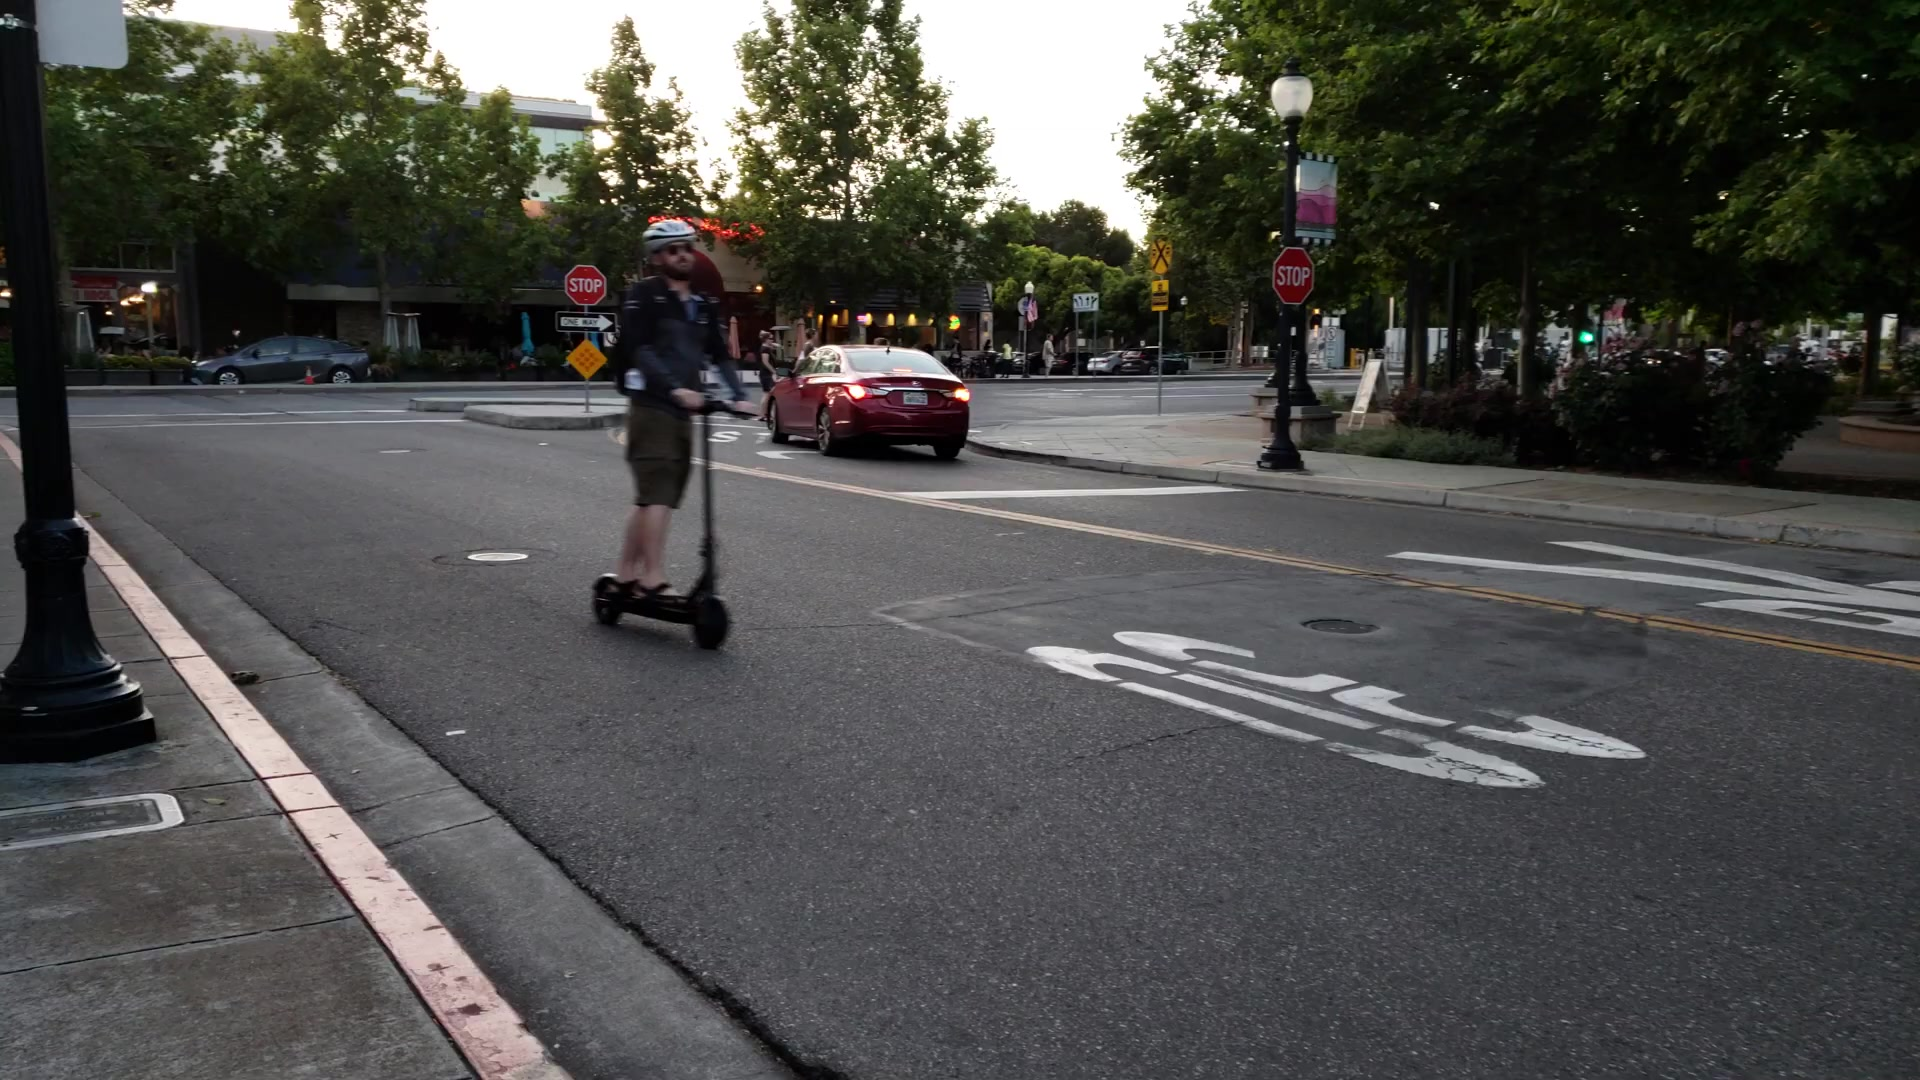vehicle: (767, 342, 973, 465)
